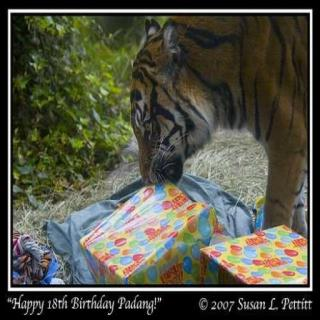Tiger: (129, 13, 309, 229)
